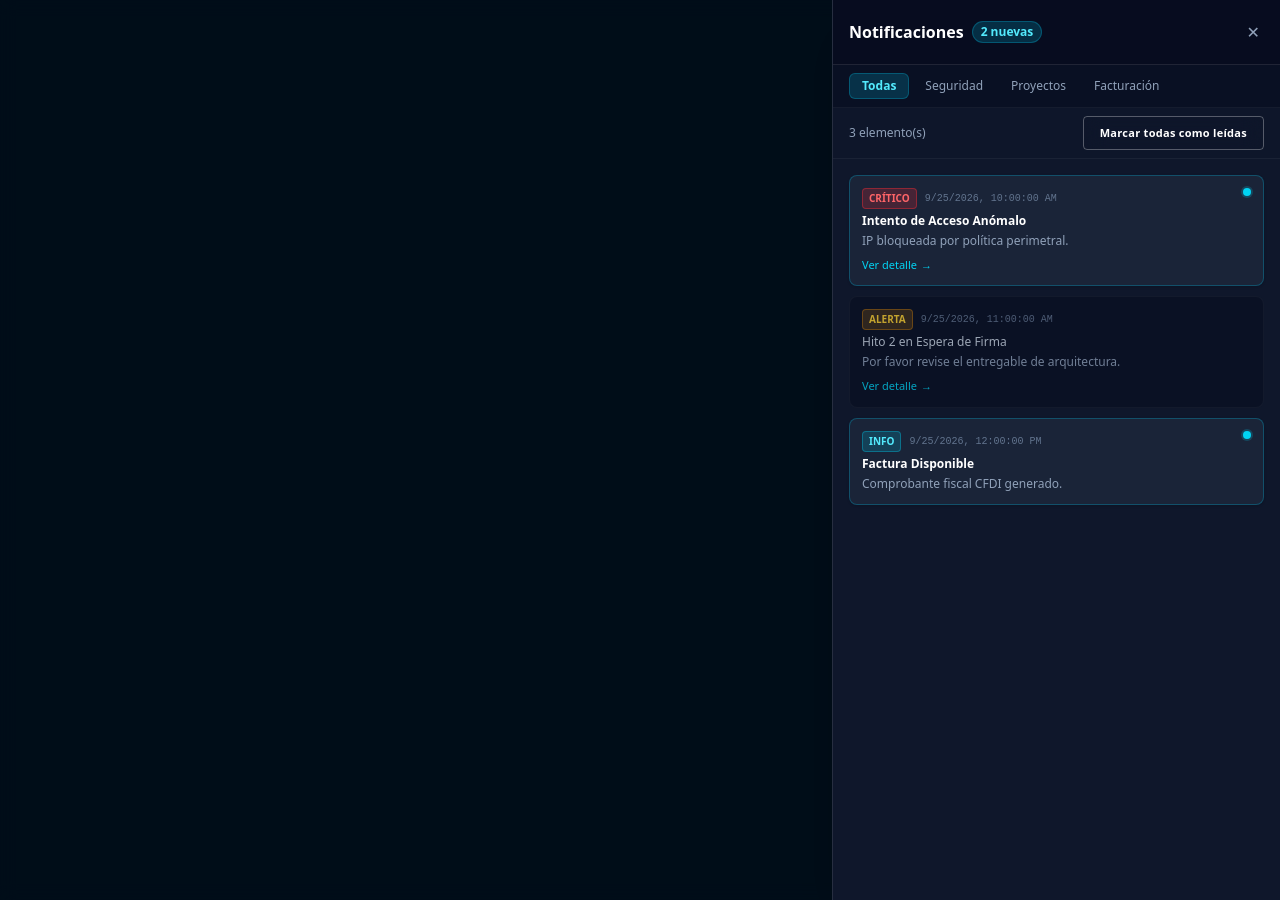
FC 053: Frontend Client Notification Center & Security Webhooks Suite › 2. NotificationDrawer Component › debe usar mensaje predeterminado cuando markNotificationsAsRead falla sin mensaje
Click the button "Marcar todas como leídas". click: (1173, 133)
box: [1083, 116, 1264, 150]
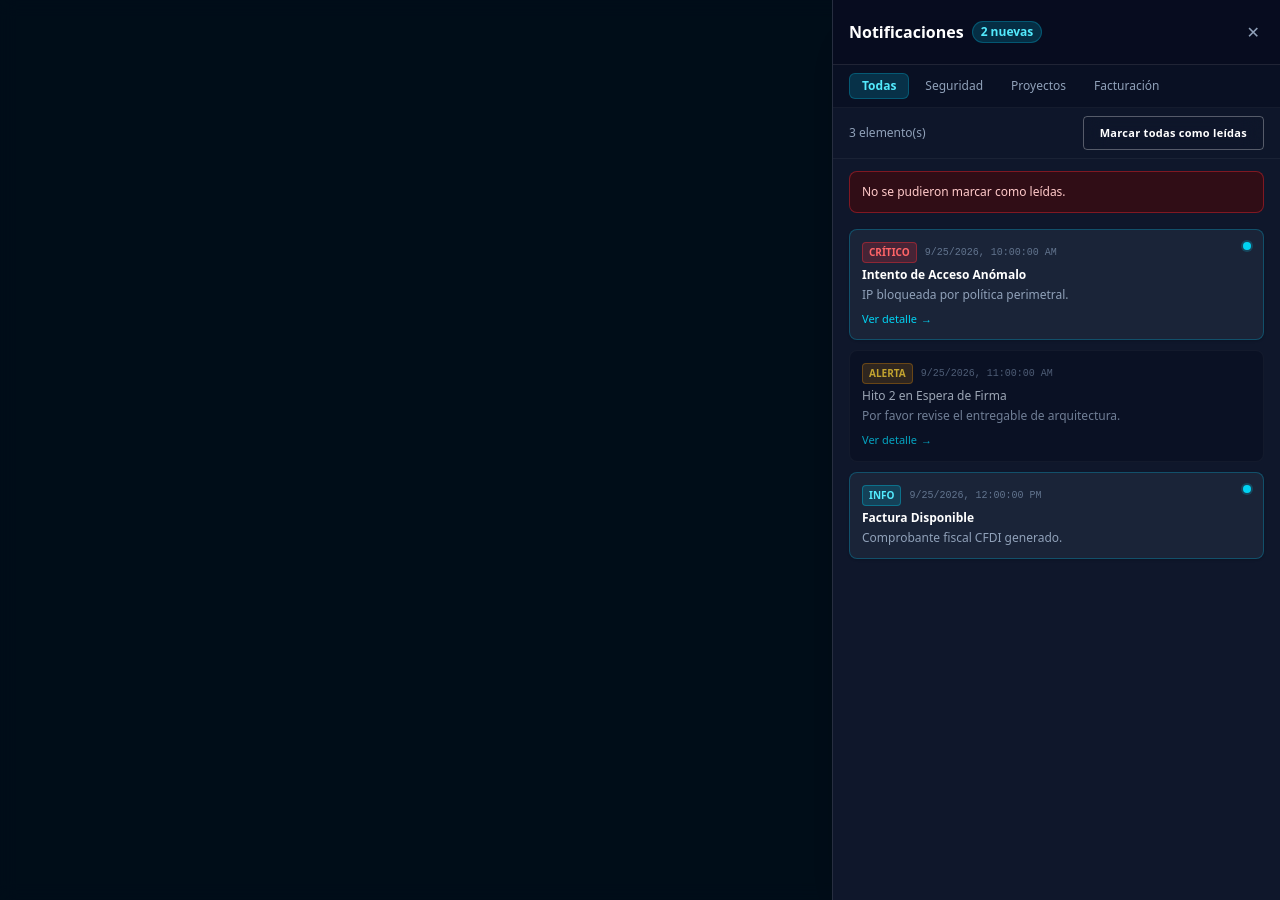
Now the text "No se pudieron marcar como leídas." is shown, box [849, 171, 1264, 213]
